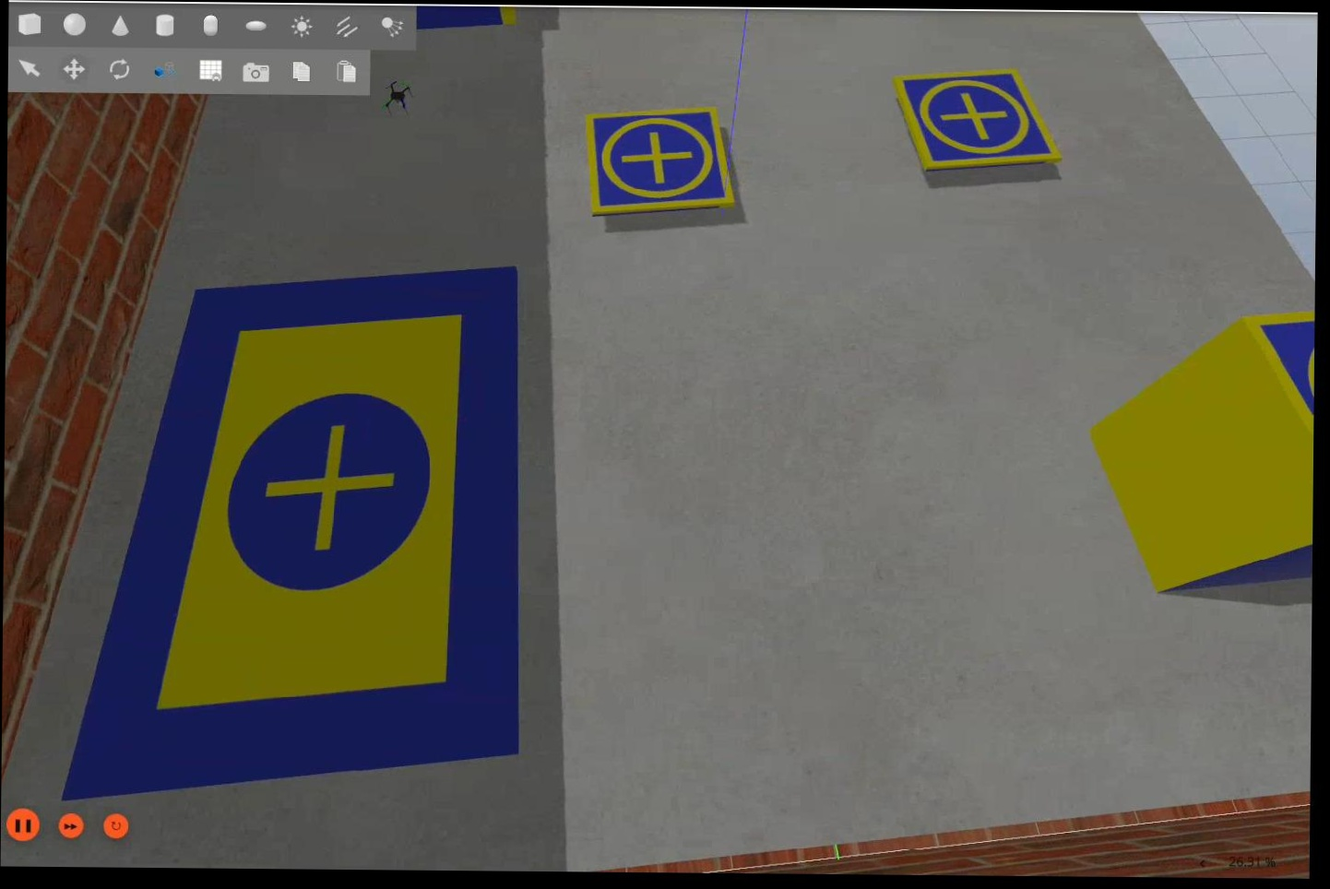large_base: (57, 263, 527, 807)
small_base: (894, 66, 1062, 177), (580, 107, 741, 218), (1241, 309, 1320, 432)
